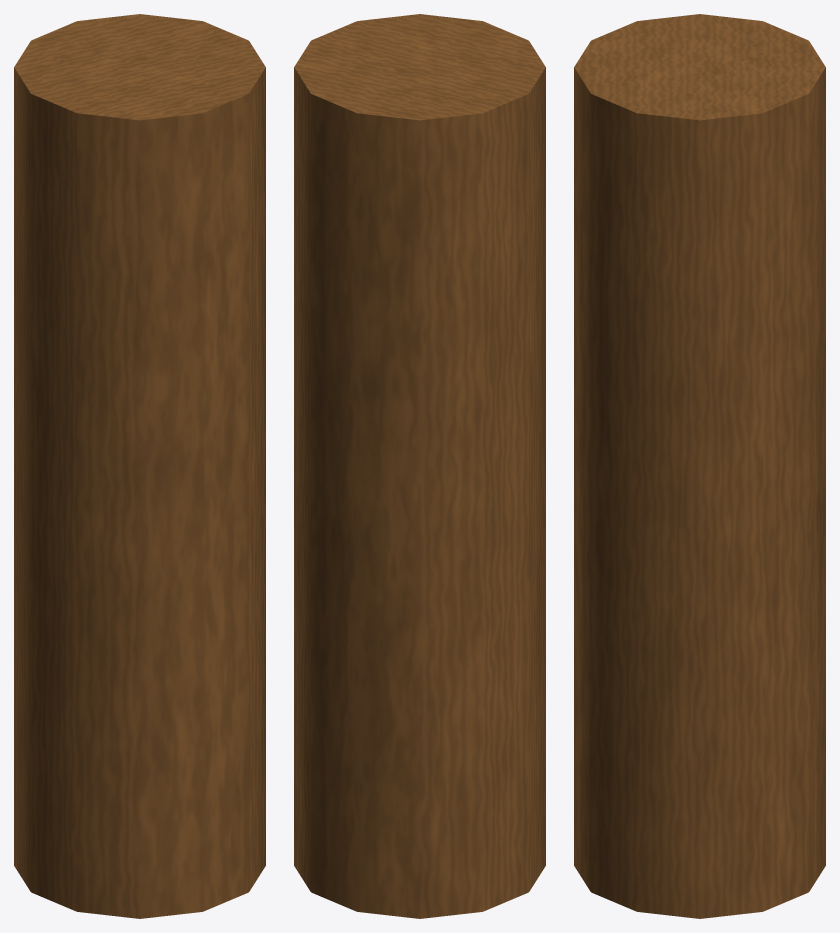
The model's file is Furn_TrainingPost.fbx.
3 views of the same model, side by side, from view 1: azimuth 30°, elevation 25°; view 2: azimuth 150°, elevation 25°; view 3: azimuth 270°, elevation 25° (orthographic).
Parts seen in each view (by area): view 1: Furn_TrainingPost_Mesh; view 2: Furn_TrainingPost_Mesh; view 3: Furn_TrainingPost_Mesh.
Boxes of the visible parts, <box> form: Furn_TrainingPost_Mesh: <box>14,14,265,918</box>; Furn_TrainingPost_Mesh: <box>294,14,545,918</box>; Furn_TrainingPost_Mesh: <box>574,14,825,918</box>.
Bounding box in the file's own units: 0.2 × 0.7 × 0.2.
Materials: 1 (1 with a texture image).
